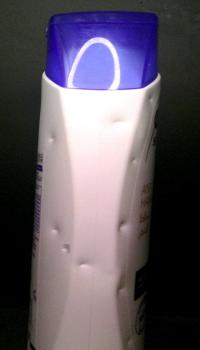dent_marginal: (41, 131, 68, 146), (117, 333, 139, 350), (122, 153, 140, 171), (114, 218, 134, 233), (112, 282, 130, 297), (110, 113, 127, 127), (54, 244, 73, 255), (72, 261, 91, 272), (143, 92, 159, 104), (49, 224, 60, 238)
